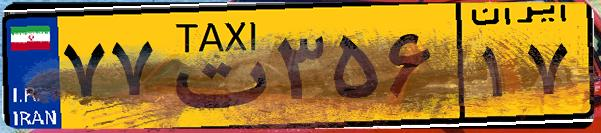1: (475, 38, 525, 113)
3: (270, 28, 330, 110)
5: (330, 28, 385, 110)
6: (385, 28, 445, 110)
7: (57, 26, 110, 100), (525, 38, 570, 115), (110, 28, 158, 98)
ت: (158, 12, 270, 120)
